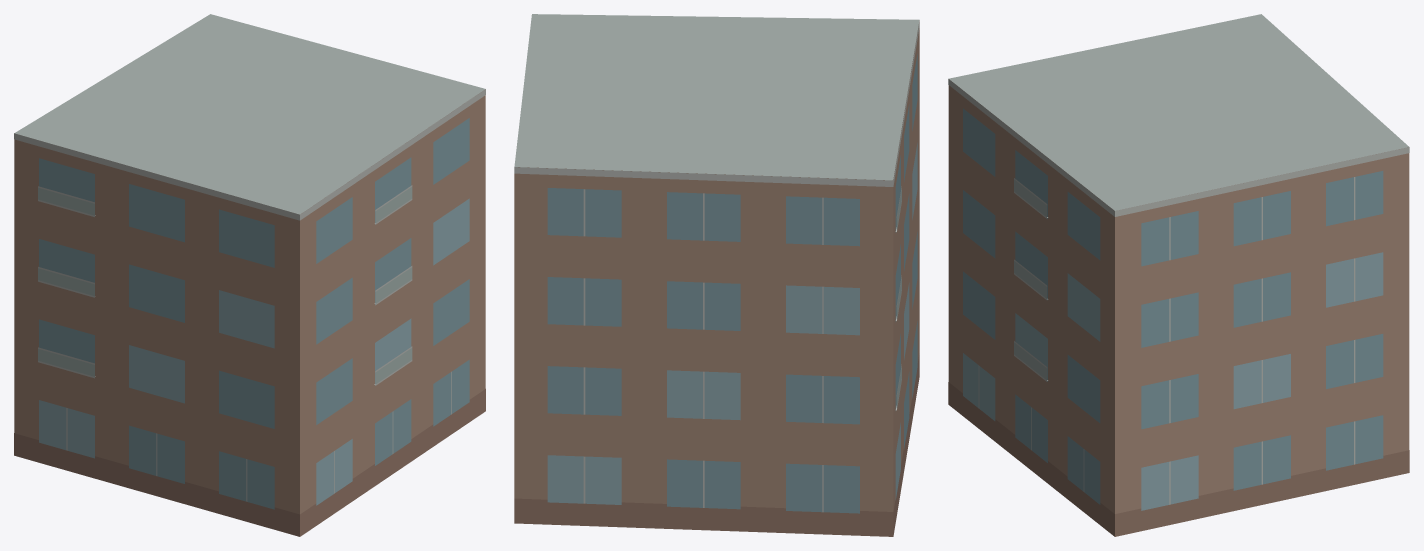
File: survey-upis-32745157.glb
The picture shows the model from 3 angles, left to right: view 1: azimuth 30°, elevation 25°; view 2: azimuth 150°, elevation 25°; view 3: azimuth 270°, elevation 25°; orthographic projection. The views are drawn at different scales.
Parts seen in each view (by area): view 1: survey-upis-32745157.tmp; view 2: survey-upis-32745157.tmp; view 3: survey-upis-32745157.tmp.
Part boxes in pixels (x1,y1,x2,y2): survey-upis-32745157.tmp: [14, 14, 485, 536]; survey-upis-32745157.tmp: [514, 14, 919, 536]; survey-upis-32745157.tmp: [948, 14, 1409, 536].
Size of the model in its own units: 16.86 by 13 by 16.67.
